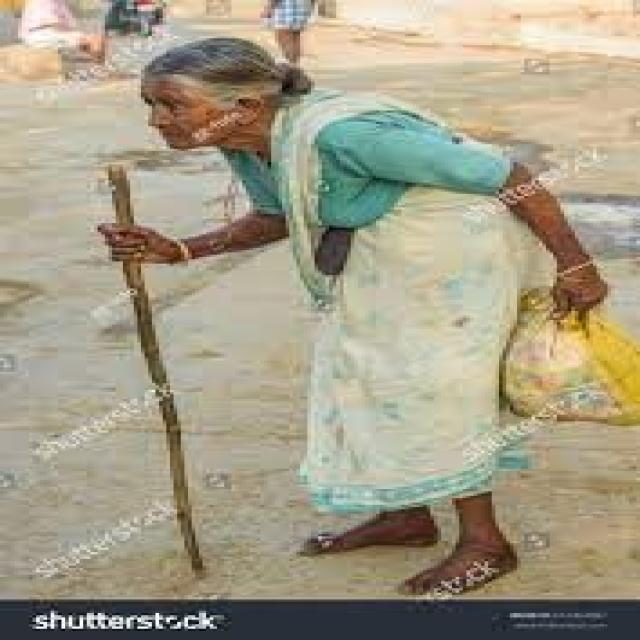idoso em pe: (112, 37, 530, 598)
